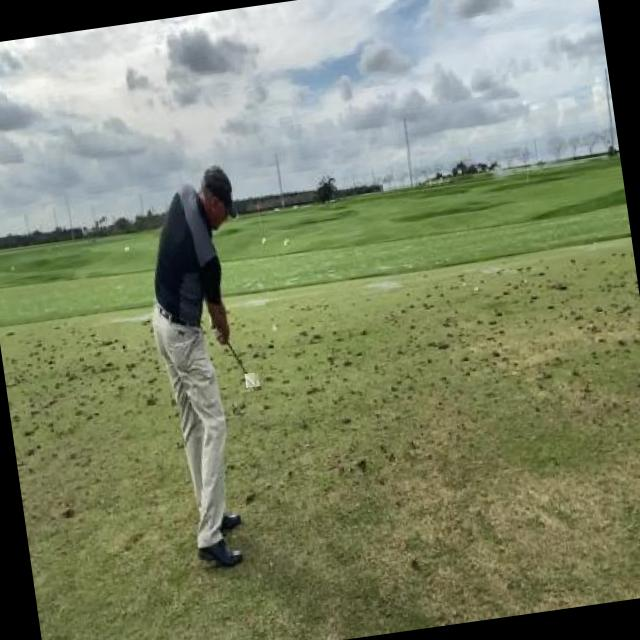club head: (244, 372, 260, 388)
